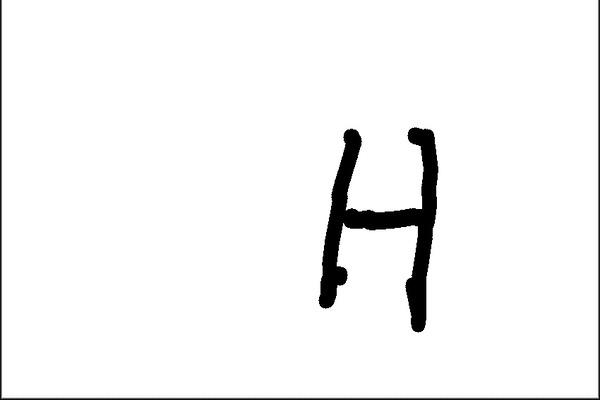H: (306, 116, 448, 335)
